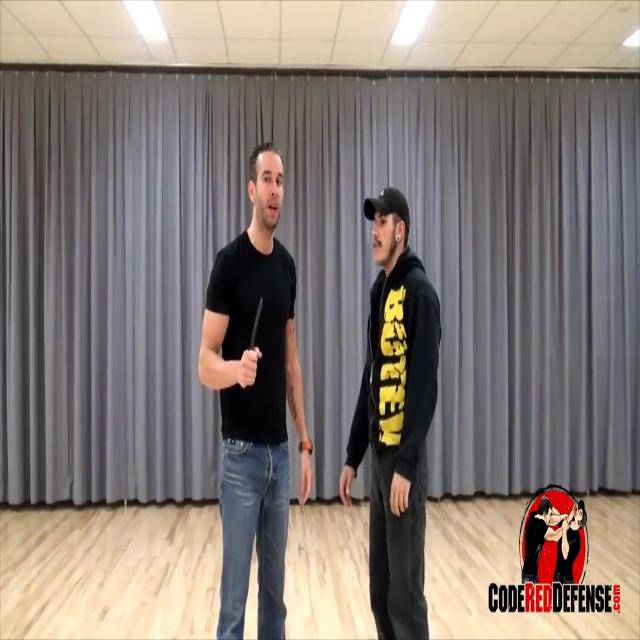Knife_Handle: (236, 297, 264, 388)
